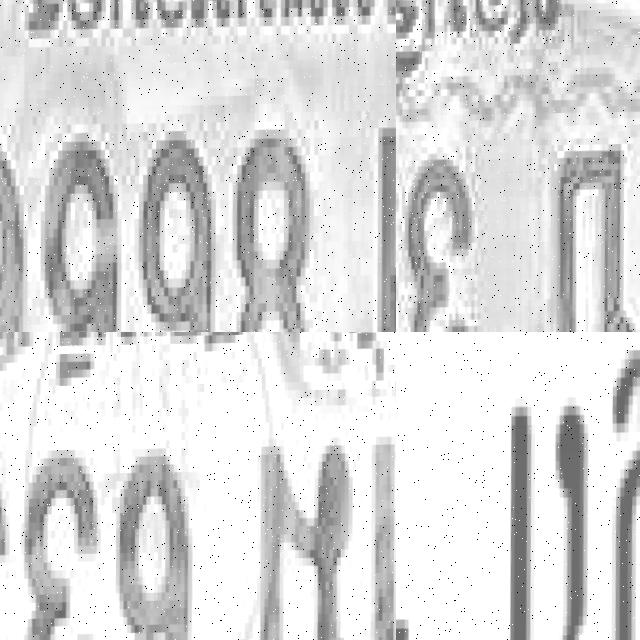license-plate: (0, 0, 396, 332), (0, 332, 396, 640), (396, 0, 640, 332), (396, 332, 640, 640)
